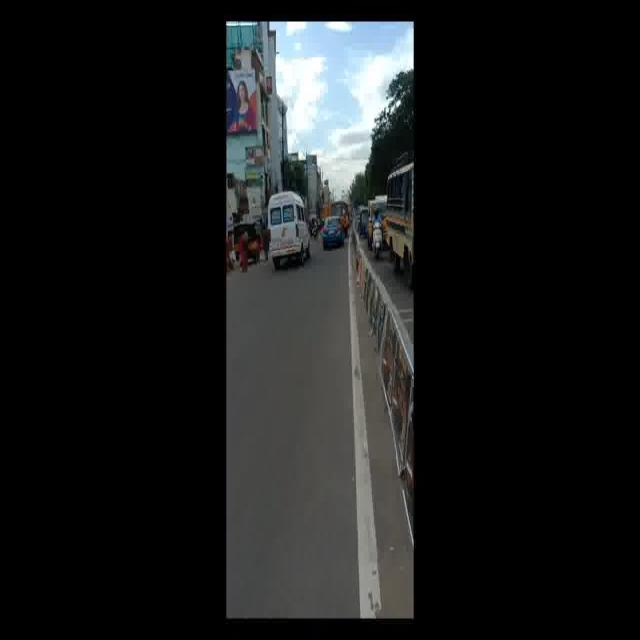ambulance: (268, 186, 308, 270)
